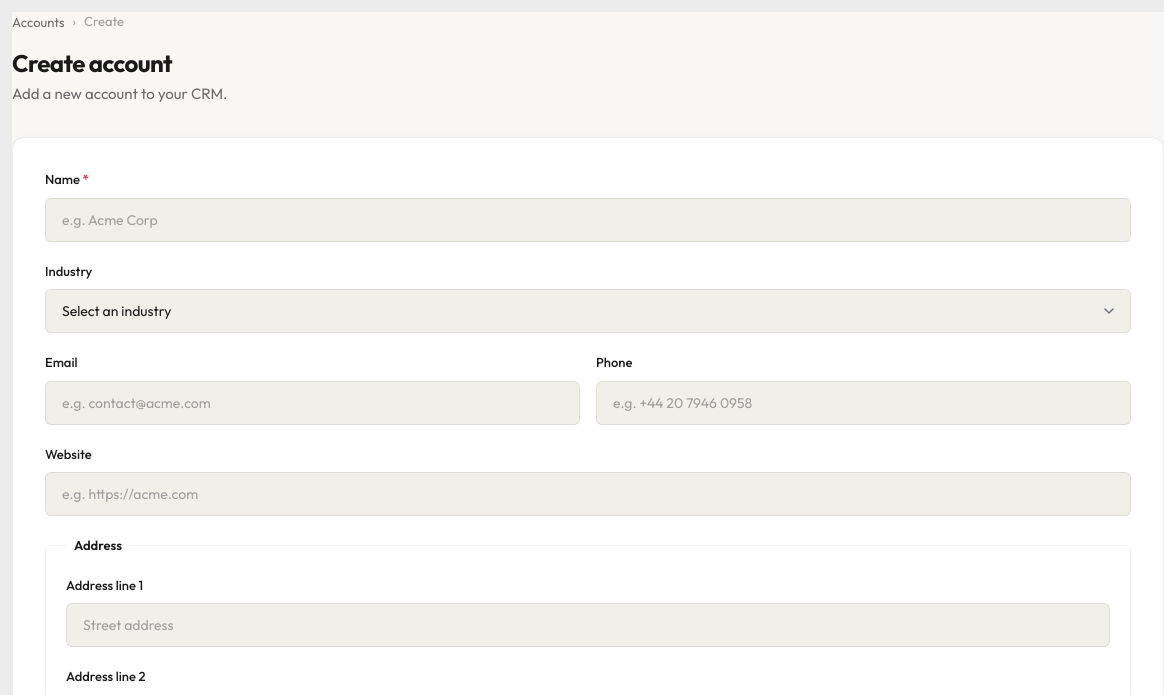
Test case: CreateAccountPage › shows custom industry field when "Other" is selected
Expected: the field labelled "Custom industry" is not shown
Select "Other" in the dropdown labelled "Industry" at (588, 311), box top-left (45, 289), bottom-right (1131, 333)
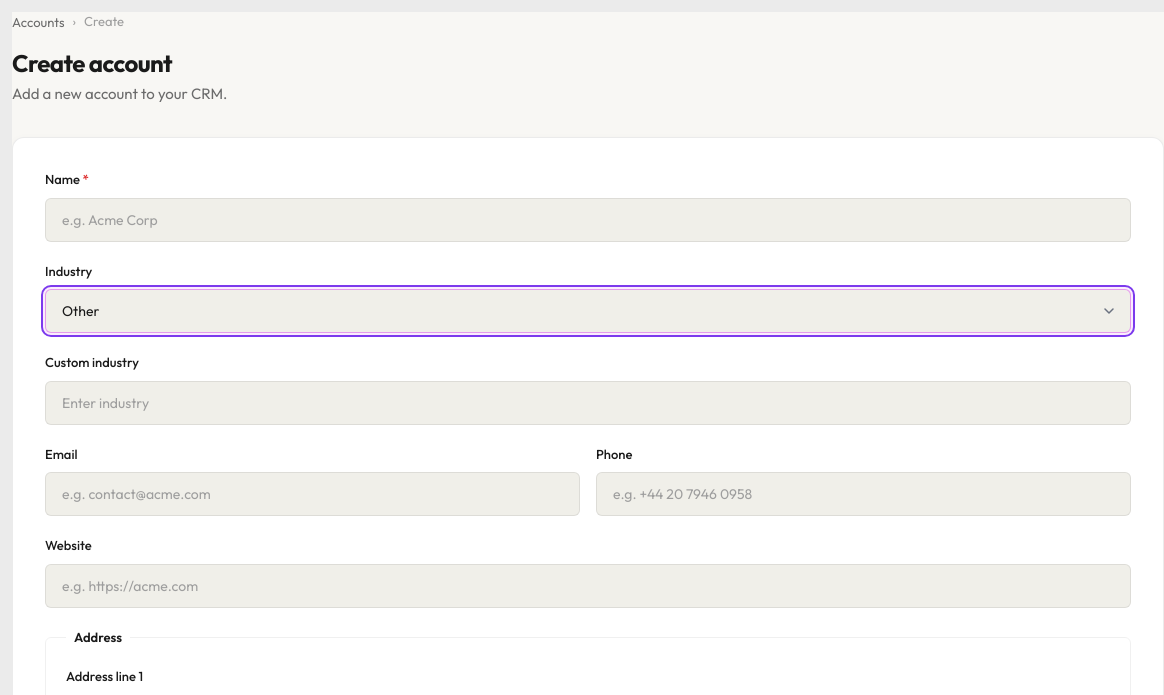
Now the field labelled "Custom industry" is shown, box top-left (45, 381), bottom-right (1131, 425)
